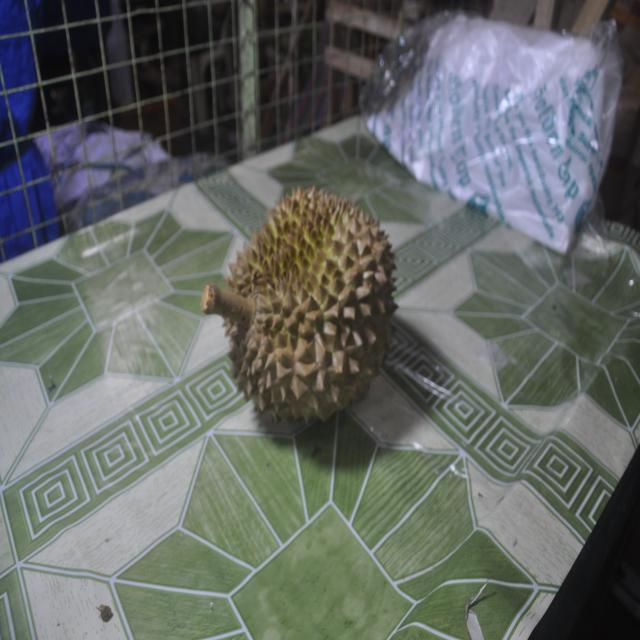mature: (202, 188, 396, 421)
